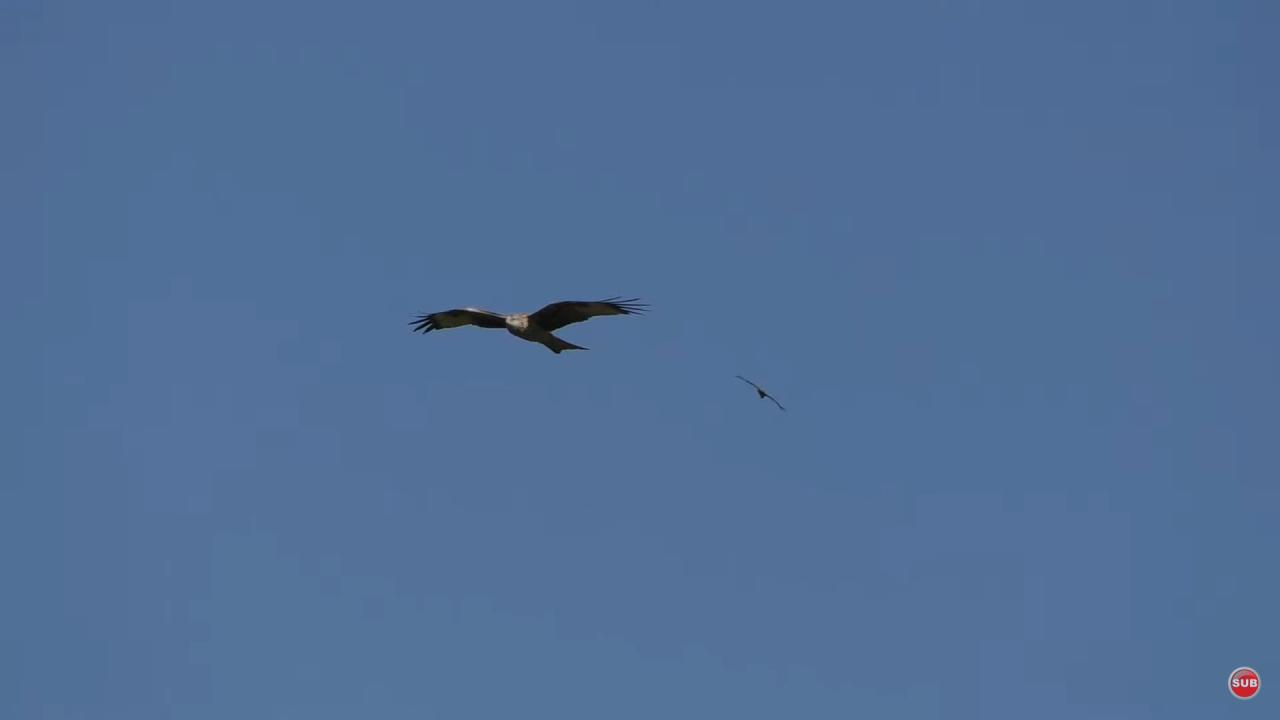Bird: (398, 280, 669, 369)
